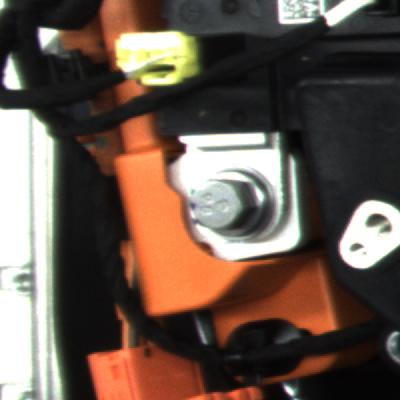nut_b: (186, 157, 287, 249)
